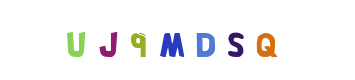9: (132, 0, 212, 80)
D: (161, 0, 241, 80)
J: (76, 0, 156, 80)
M: (137, 0, 217, 80)
Q: (226, 0, 306, 80)
S: (196, 0, 276, 80)
U: (69, 0, 149, 80)
